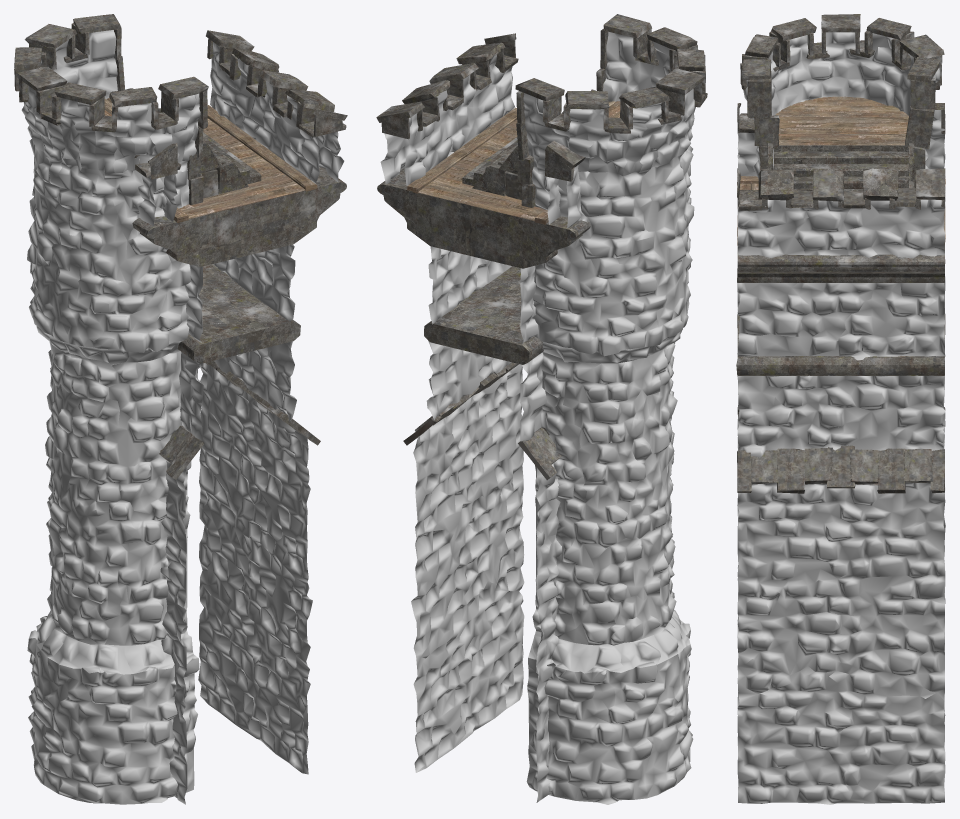
The model's file is SM_Curtain_Wall_03_Fix.fbx.
3 views of the same model, side by side, from view 1: azimuth 30°, elevation 25°; view 2: azimuth 150°, elevation 25°; view 3: azimuth 270°, elevation 25° (orthographic). The views are drawn at different scales.
Visible parts, largest first — view 1: SM_Curtain_Wall_03_Fix_LOD0; view 2: SM_Curtain_Wall_03_Fix_LOD0; view 3: SM_Curtain_Wall_03_Fix_LOD0.
Boxes of the visible parts, x1,y1,x2,y2 form: SM_Curtain_Wall_03_Fix_LOD0: (14,14,347,804); SM_Curtain_Wall_03_Fix_LOD0: (376,14,707,804); SM_Curtain_Wall_03_Fix_LOD0: (736,14,945,804).
Size of the model in its own units: 571 by 404 by 1456.
